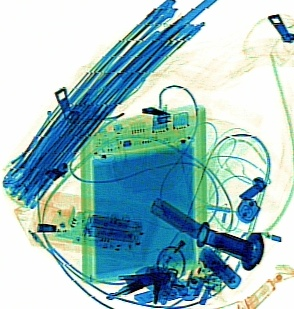lighter: (142, 216, 204, 285)
